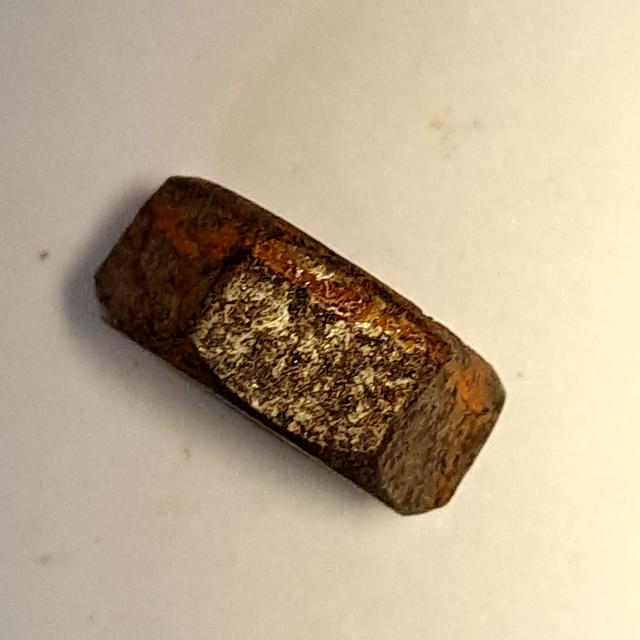Side_Rust: (79, 156, 525, 527)
